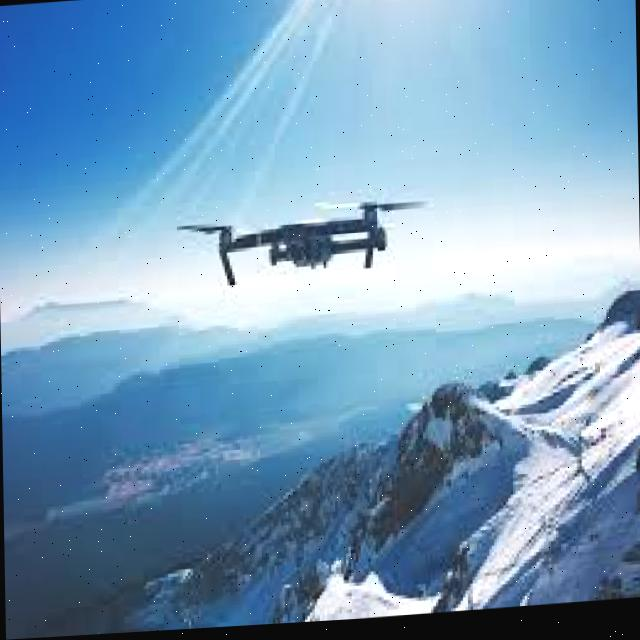drone: (164, 177, 450, 314)
